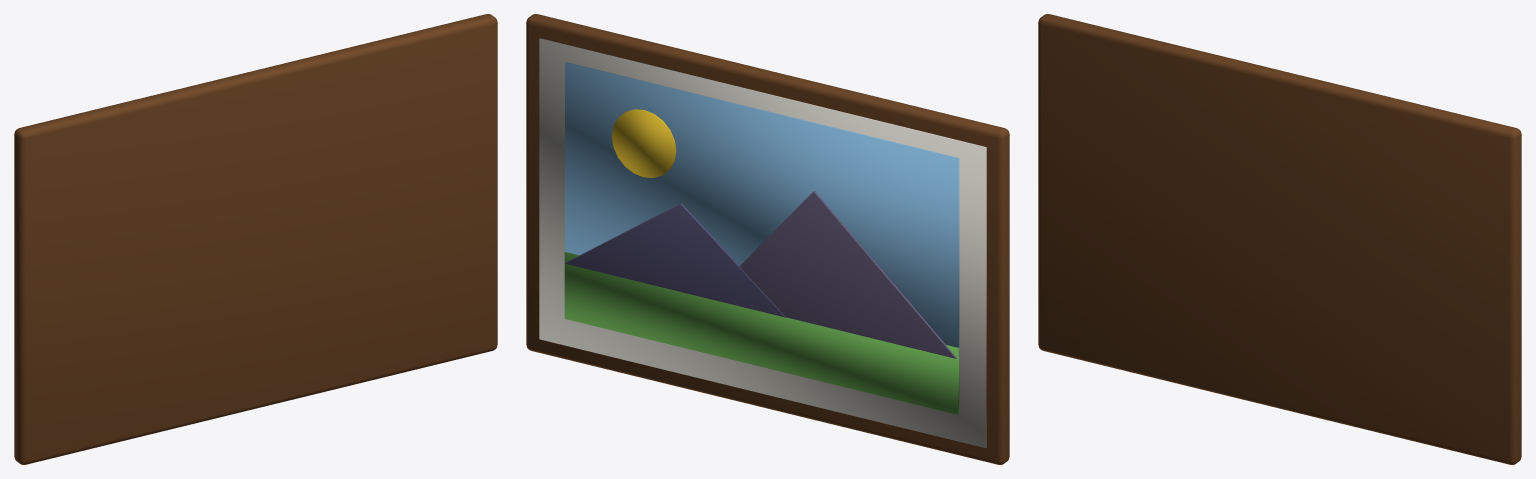
File: painting_landscape.glb
3 renders of one model, left to right at view 1: azimuth 30°, elevation 25°; view 2: azimuth 150°, elevation 25°; view 3: azimuth 330°, elevation 25°, orthographic.
Parts seen in each view (by area): view 1: painting_landscape; view 2: painting_landscape; view 3: painting_landscape.
Boxes of the visible parts, x1,y1,x2,y2 form: painting_landscape: (14,14,497,464); painting_landscape: (526,14,1009,464); painting_landscape: (1038,14,1521,464).
Bounding box in the file's own units: 0.9 × 0.6 × 0.04.
